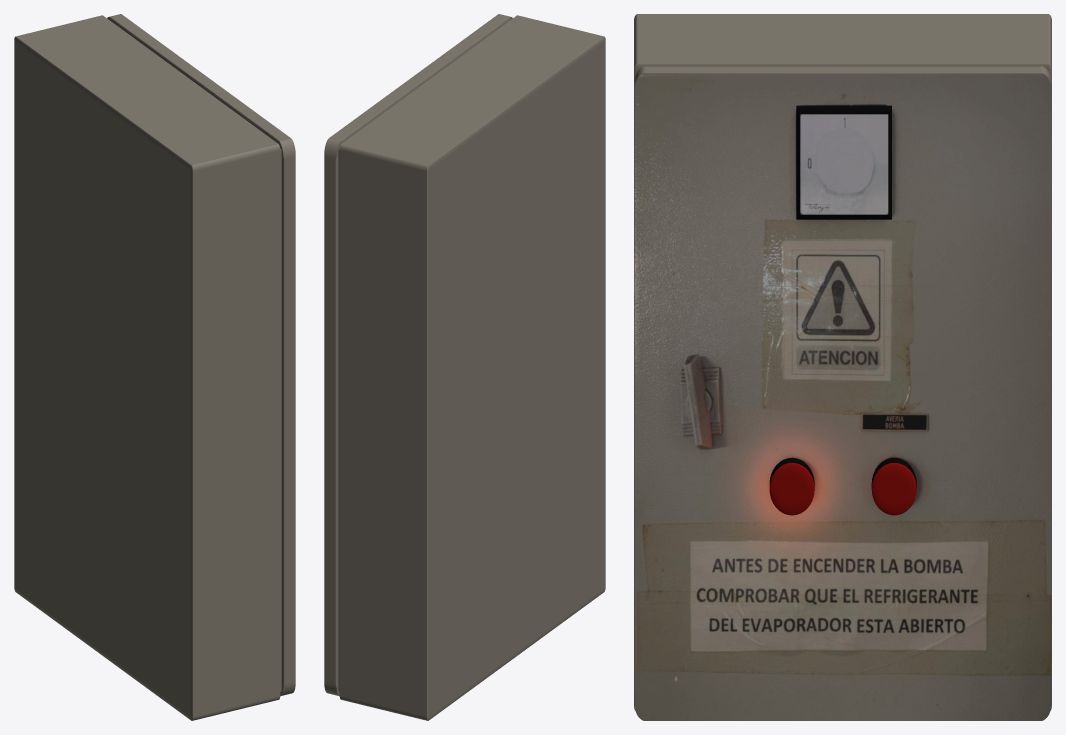
File: ArmaritoElectricidad.fbx
3 renders of one model, left to right at view 1: azimuth 30°, elevation 25°; view 2: azimuth 150°, elevation 25°; view 3: azimuth 270°, elevation 25°, orthographic. The views are drawn at different scales.
Parts seen in each view (by area): view 1: Cube; view 2: Cube; view 3: Cube.
Part boxes in pixels (<box>): Cube: <box>14,14,295,720</box>; Cube: <box>324,14,605,720</box>; Cube: <box>634,14,1051,720</box>.
Bounding box in the file's own units: 258 × 1200 × 700.
